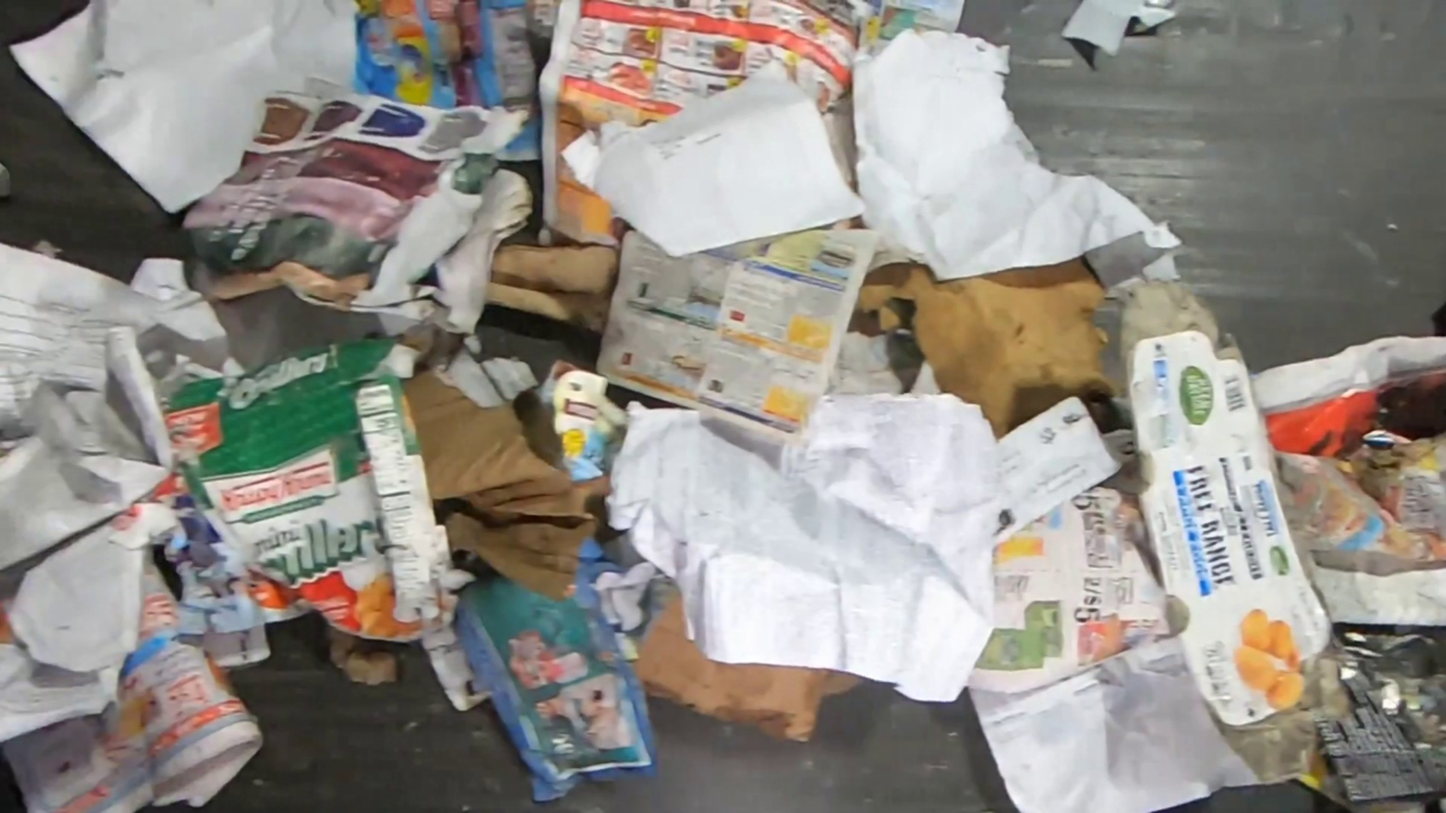cardboard: (1117, 280, 1332, 783), (157, 330, 481, 644), (404, 372, 610, 603), (631, 589, 863, 742), (483, 241, 621, 338)
